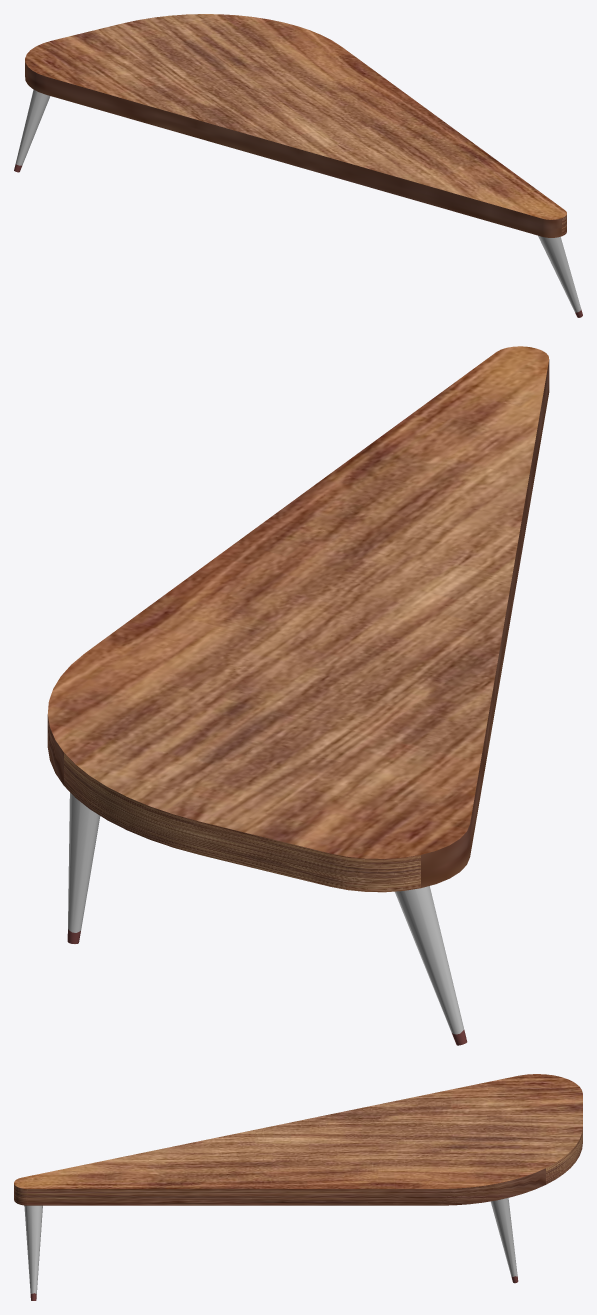
Rendered from mesaSala.obj.
3 views of the same model, one above another, from view 1: azimuth 30°, elevation 25°; view 2: azimuth 150°, elevation 25°; view 3: azimuth 270°, elevation 25° (orthographic). The views are drawn at different scales.
Parts seen in each view (by area): view 1: pCube7; view 2: pCube7; view 3: pCube7.
Boxes of the visible parts, x1,y1,x2,y2 form: pCube7: (14, 14, 582, 317); pCube7: (47, 346, 549, 1045); pCube7: (14, 1074, 582, 1300).
Size of the model in its own units: 2.95 by 1.16 by 5.5.
